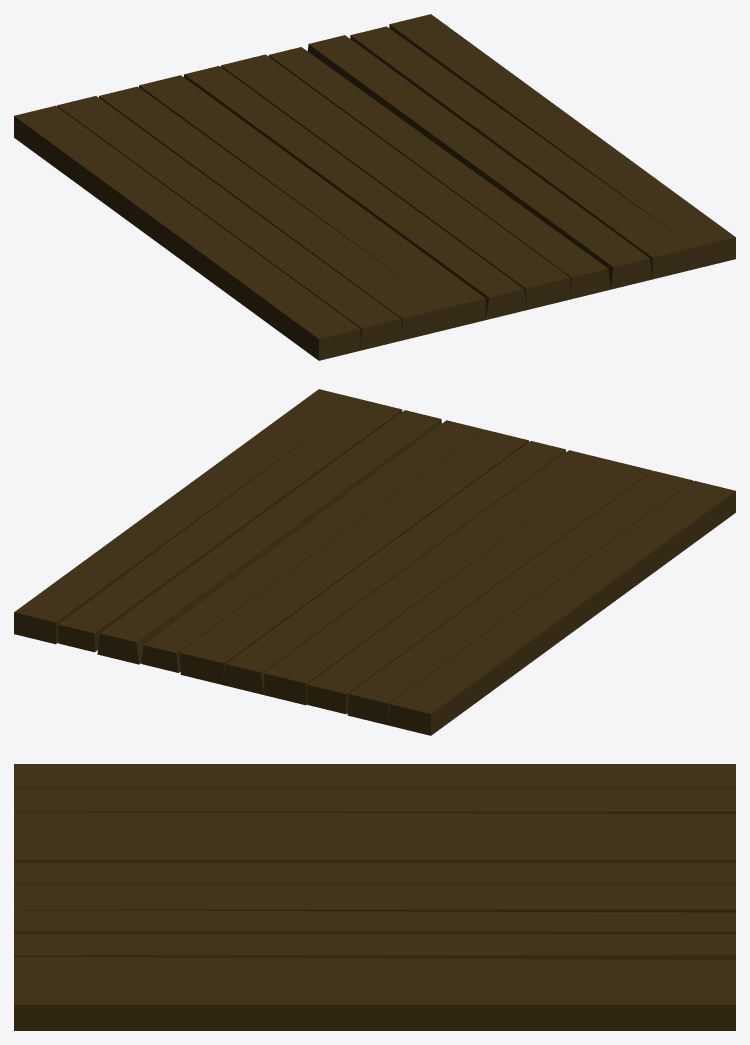
Rendered from roof Flat.fbx.
The picture shows the model from 3 angles, top to bottom: view 1: azimuth 30°, elevation 25°; view 2: azimuth 150°, elevation 25°; view 3: azimuth 270°, elevation 25°; orthographic projection. The views are drawn at different scales.
Parts seen in each view (by area): view 1: Cube.004; view 2: Cube.004; view 3: Cube.004.
Part boxes in pixels (x1,y1,x2,y2): Cube.004: [14, 14, 735, 360]; Cube.004: [14, 389, 735, 735]; Cube.004: [14, 764, 735, 1030].
Size of the model in its own units: 600 by 30 by 760.
